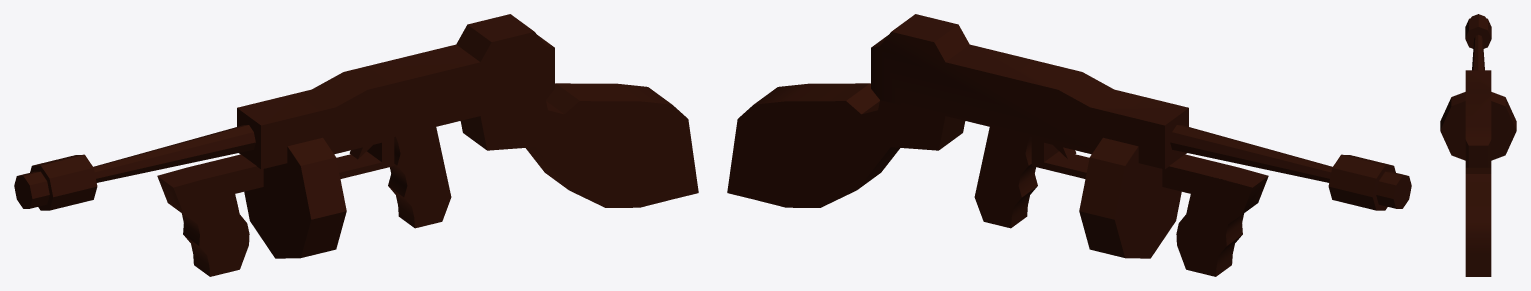
File: TOMMY GUN.fbx
3 renders of one model, left to right at view 1: azimuth 30°, elevation 25°; view 2: azimuth 150°, elevation 25°; view 3: azimuth 270°, elevation 25°, orthographic. The views are drawn at different scales.
Visible parts, largest first — view 1: TOMMY GUN; view 2: TOMMY GUN; view 3: TOMMY GUN.
Boxes of the visible parts, x1,y1,x2,y2 form: TOMMY GUN: (14,14,698,276); TOMMY GUN: (727,14,1411,276); TOMMY GUN: (1440,14,1516,276).
Bounding box in the file's own units: 1065 × 309 × 200.
